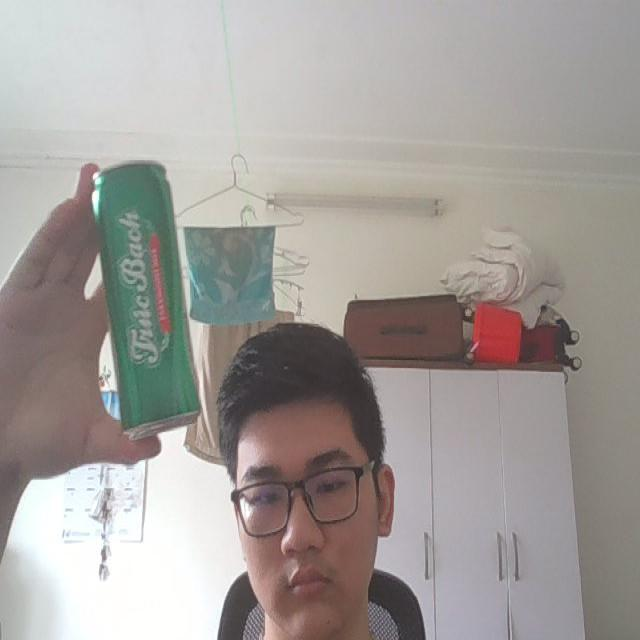Bia-Truc-Bach: (88, 157, 204, 440)
